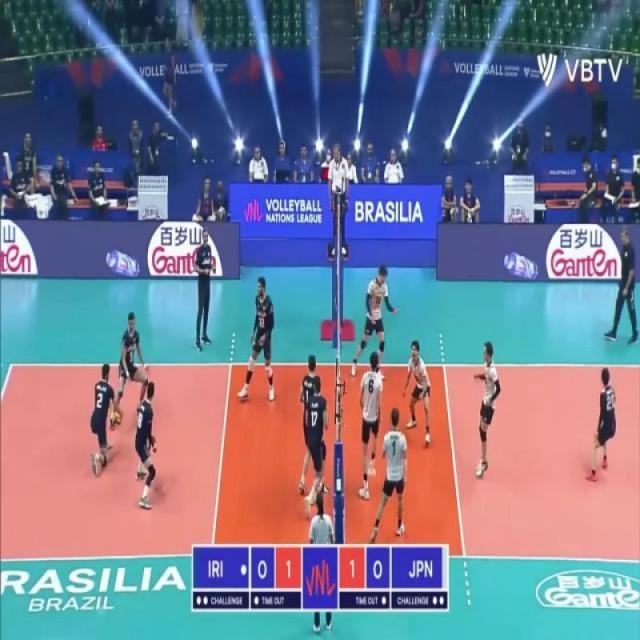volleyball: (110, 410, 122, 430)
